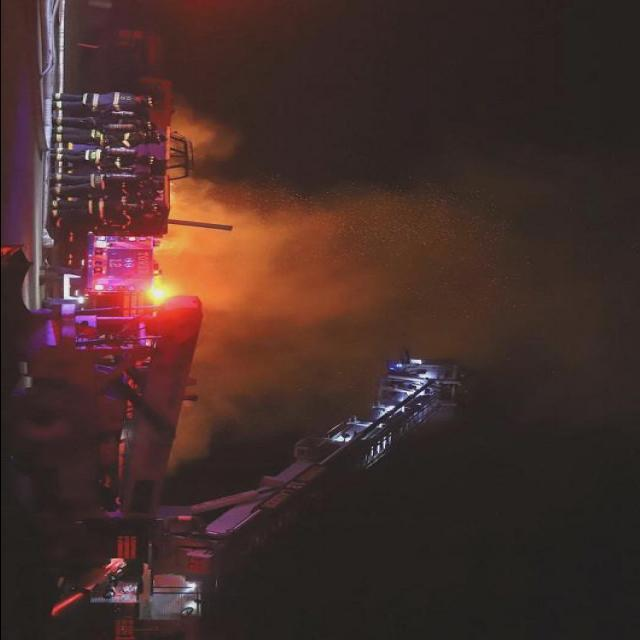Fire: (146, 266, 184, 306), (168, 178, 200, 216), (153, 230, 191, 260)
